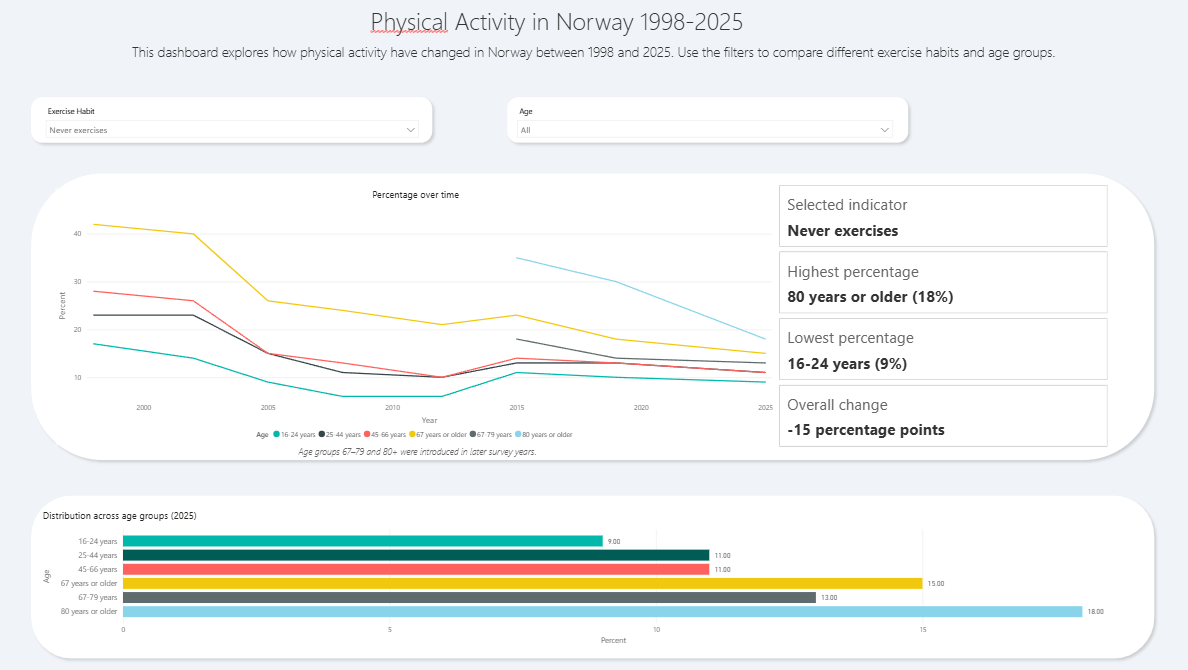

The page's visual inventory and layout, read from the dashboard file:
{"tool":"powerbi","page":{"name":"Exercise Dashboard","canvas":[1920,1080],"ordinal":0},"visuals":[{"type":"shape","box":[70,280,1787.5,470],"z":0},{"type":"shape","box":[70,160,650,90],"z":1000},{"type":"shape","box":[820,160,650,90],"z":2000},{"type":"shape","box":[70,787.5,1787.5,292.5],"z":3000},{"type":"textbox","box":[117.5,17.5,1580,60],"z":4000},{"type":"slicer","fields":{"Values":["06181.Lifestyle Habit"]},"box":[92.7,176.4,607.3,59.1],"z":5000},{"type":"slicer","fields":{"Values":["06181.Age"]},"box":[835.5,176.4,611.8,59.1],"z":6000},{"type":"lineChart","title":"Percentage over time","fields":{"Category":["06181.Year"],"Y":["Avg(06181.Percent)"],"Series":["06181.Age"]},"box":[117.5,312.5,1135,405],"z":7000},{"type":"textbox","box":[205,77.5,1520,50],"z":8000},{"type":"textbox","box":[495,712.5,410,37.5],"z":9000},{"type":"clusteredBarChart","title":"Distribution across age groups (2025)","fields":{"Category":["06181.Age"],"Y":["Avg(06181.Percent)"]},"box":[102.5,817.5,1677.5,230],"z":10000},{"type":"cardVisual","fields":{"Data":["06181.Selected Habit","06181.Highest Age Group","06181.Lowest Age Group","06181.Change Since 1998"]},"box":[1252.5,302.5,527.5,422.5],"z":11000}]}

Visuals, with their boxes in screenshot pixels (x1, y1, x2, y2), scaled from the page's 1920x1080 canvas onto the 1188x670 screenshot:
shape: <box>43,174,1149,465</box>
shape: <box>43,99,446,155</box>
shape: <box>507,99,910,155</box>
shape: <box>43,489,1149,669</box>
textbox: <box>73,11,1050,48</box>
slicer - 06181.Lifestyle Habit: <box>57,109,433,146</box>
slicer - 06181.Age: <box>517,109,896,146</box>
"Percentage over time" lineChart: <box>73,194,775,445</box>
textbox: <box>127,48,1067,79</box>
textbox: <box>306,442,560,465</box>
"Distribution across age groups (2025)" clusteredBarChart: <box>63,507,1101,650</box>
cardVisual - 06181.Selected Habit x 06181.Highest Age Group: <box>775,188,1101,450</box>
